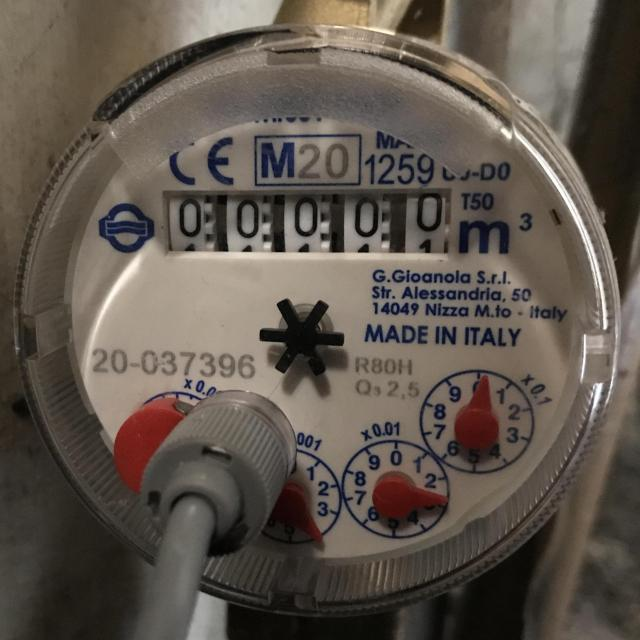gaz_meter: (64, 52, 582, 562)
indication: (164, 191, 453, 256)
